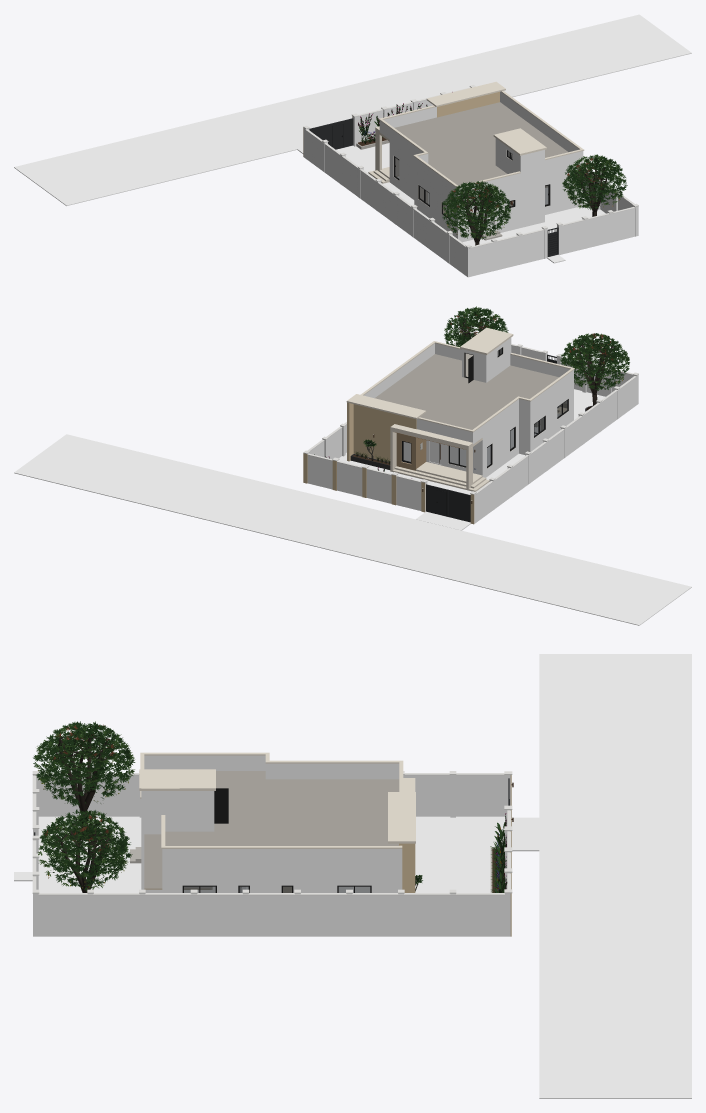
Rendered from rahilu_model.glb.
3 views of the same model, one above another, from view 1: azimuth 30°, elevation 25°; view 2: azimuth 150°, elevation 25°; view 3: azimuth 270°, elevation 25° (orthographic). The views are drawn at different scales.
Parts seen in each view (by area): view 1: INTERIOR, LM_EXT, LM_EXT_CEIL, LMV_PLANTS, LM_INT; view 2: INTERIOR, LM_EXT, LM_EXT_CEIL, LMV_PLANTS, LM_INT; view 3: INTERIOR, LM_EXT, LM_EXT_CEIL, LMV_PLANTS.
Boxes of the visible parts, x1,y1,x2,y2 form: INTERIOR: (14,14,691,263); LM_EXT: (297,81,638,277); LM_EXT_CEIL: (378,91,584,196); LMV_PLANTS: (358,92,627,245); LM_INT: (393,155,549,229); INTERIOR: (14,375,691,625); LM_EXT: (303,332,638,530); LM_EXT_CEIL: (360,327,574,444); LMV_PLANTS: (314,306,629,478); LM_INT: (402,376,568,473); INTERIOR: (14,654,691,1098); LM_EXT: (14,771,539,936); LM_EXT_CEIL: (139,752,403,866); LMV_PLANTS: (33,721,507,892).
Size of what is drawn, in the model's own units: 55 by 6.36 by 35.5.
